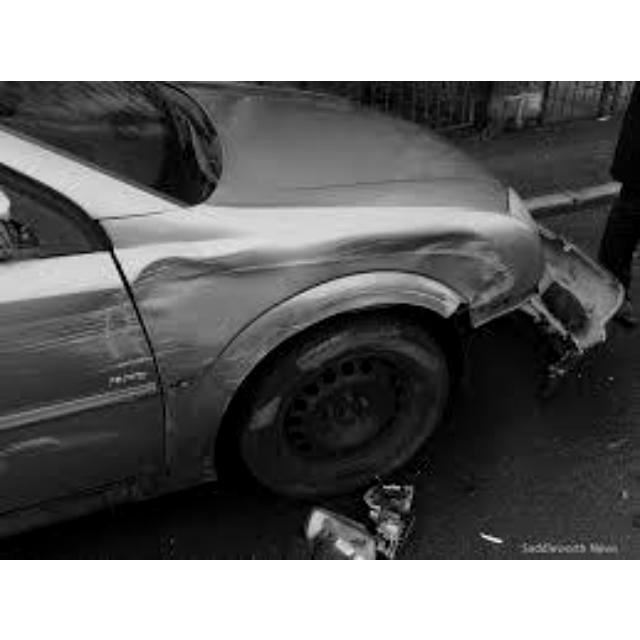doorouter-dent: (0, 273, 150, 525)
fender-dent: (134, 221, 507, 337)
